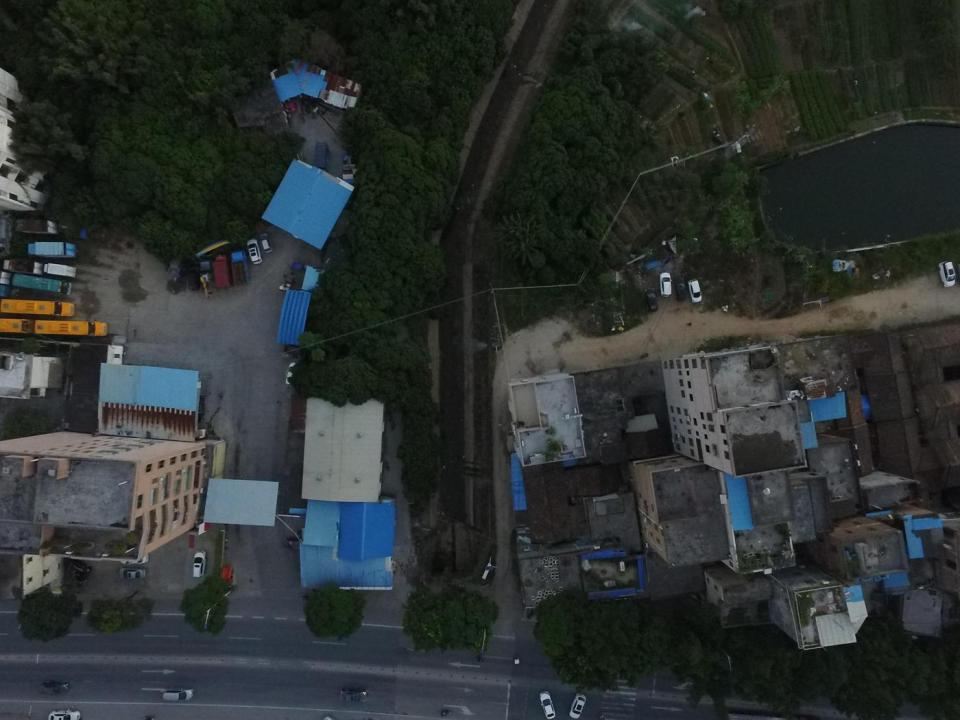bus: (0, 297, 76, 318), (33, 318, 108, 338), (11, 274, 72, 297), (0, 316, 34, 336)
car: (63, 556, 92, 577), (539, 689, 556, 719), (937, 261, 956, 287), (246, 237, 263, 265), (339, 687, 367, 704), (161, 688, 195, 702), (39, 681, 69, 696), (191, 551, 208, 577), (569, 693, 585, 719), (119, 552, 149, 565), (283, 537, 310, 551), (658, 272, 673, 297), (645, 288, 659, 314), (48, 709, 80, 720), (119, 567, 146, 580), (688, 280, 702, 304), (286, 361, 298, 388), (674, 276, 686, 302), (259, 232, 273, 254)
truck: (26, 241, 80, 258), (13, 217, 59, 236), (2, 258, 45, 276), (211, 254, 233, 289), (230, 250, 251, 286), (312, 141, 329, 182), (43, 262, 78, 278)
